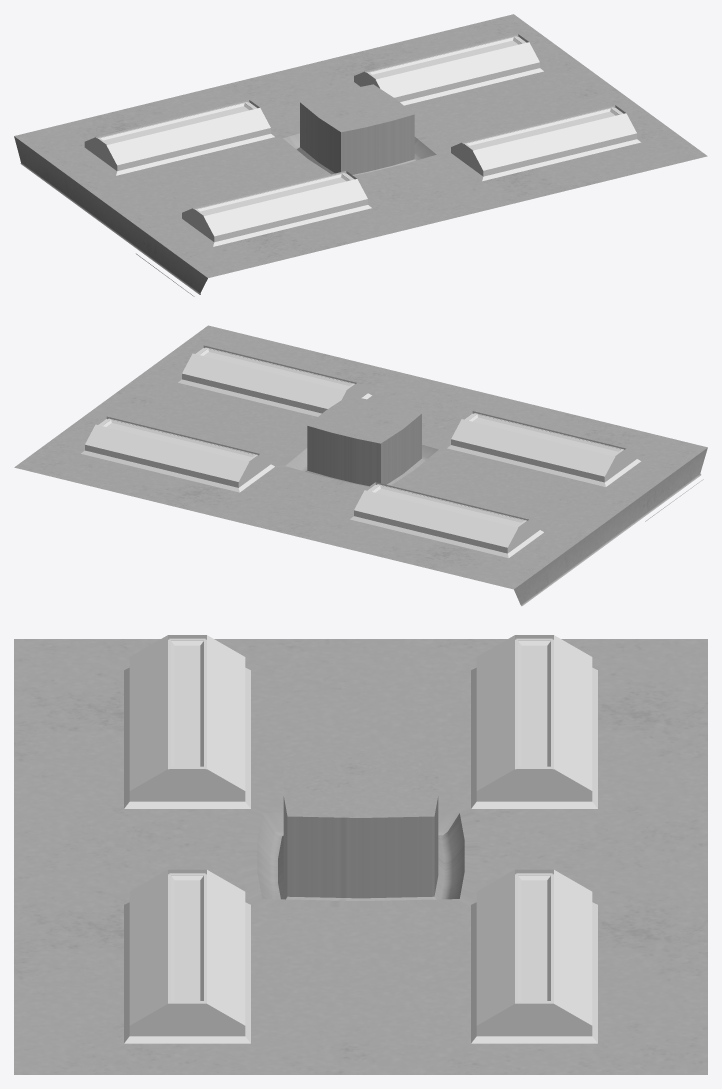
Rendered from ceillingTest.fbx.
The picture shows the model from 3 angles, top to bottom: view 1: azimuth 30°, elevation 25°; view 2: azimuth 150°, elevation 25°; view 3: azimuth 270°, elevation 25°; orthographic projection. The views are drawn at different scales.
Parts seen in each view (by area): view 1: Plane, Plane.018; view 2: Plane, Plane.018; view 3: Plane, Plane.018.
Part boxes in pixels (box(x1,y1,x2,y2)): Plane: box(14, 14, 707, 296); Plane.018: box(81, 34, 640, 246); Plane: box(14, 325, 707, 606); Plane.018: box(81, 345, 640, 558); Plane: box(14, 639, 707, 1074); Plane.018: box(124, 635, 597, 1043).
Bounding box in the file's own units: 900 × 107 × 600.
Materials: 3 (1 with a texture image).
